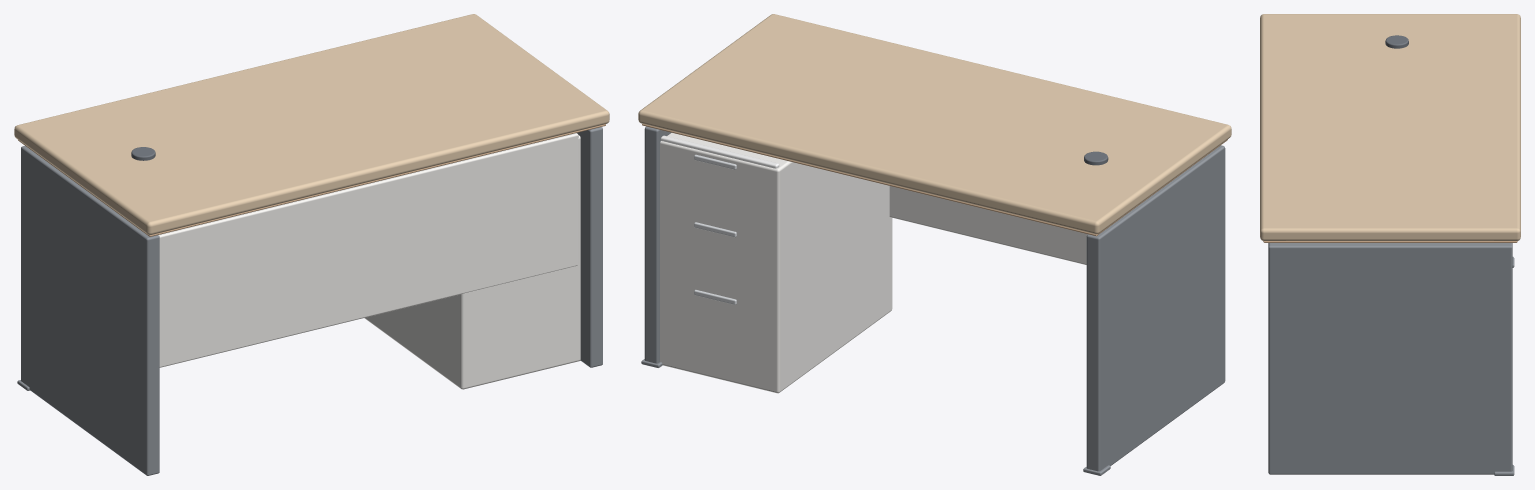
Rendered from office_desk.glb.
3 views of the same model, side by side, from view 1: azimuth 30°, elevation 25°; view 2: azimuth 150°, elevation 25°; view 3: azimuth 270°, elevation 25° (orthographic). The views are drawn at different scales.
Parts seen in each view (by area): view 1: DeskTop, DeskModesty, DeskLeg_L, DeskDrawerUnit, DeskLeg_R, DeskTopEdge; view 2: DeskTop, DeskDrawerUnit, DeskLeg_L, DeskModesty, DeskLeg_R, DeskTopEdge, DeskDrawerFront_2; view 3: DeskTop, DeskLeg_R, DeskTopEdge.
Part boxes in pixels (x1,y1,x2,y2): DeskTop: [14, 14, 609, 235]; DeskModesty: [158, 133, 578, 367]; DeskLeg_L: [21, 146, 159, 475]; DeskDrawerUnit: [364, 135, 580, 389]; DeskLeg_R: [577, 127, 602, 367]; DeskTopEdge: [18, 124, 605, 236]; DeskTop: [638, 14, 1231, 234]; DeskDrawerUnit: [660, 133, 892, 393]; DeskLeg_L: [1086, 145, 1225, 471]; DeskModesty: [889, 186, 1087, 264]; DeskLeg_R: [644, 126, 671, 363]; DeskTopEdge: [642, 124, 1227, 236]; DeskDrawerFront_2: [661, 135, 779, 168]; DeskTop: [1260, 14, 1520, 240]; DeskLeg_R: [1268, 243, 1512, 474]; DeskTopEdge: [1263, 241, 1517, 242].
Size of the model in its own units: 1.54 by 0.828 by 0.78.
